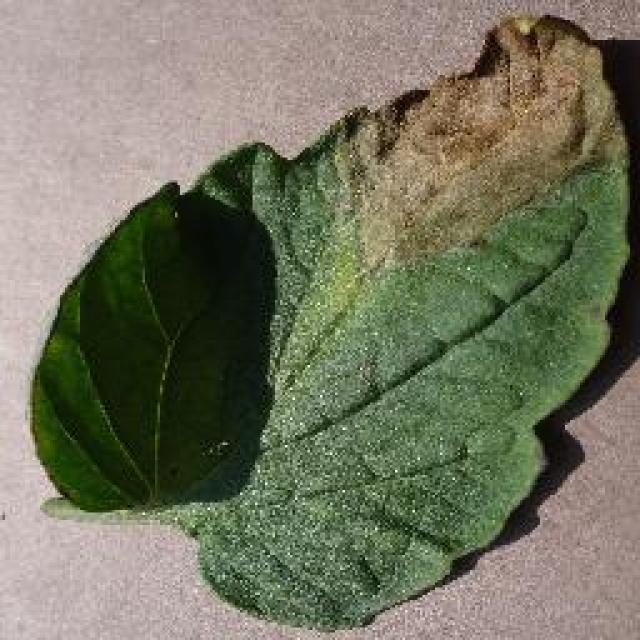Tomato late blight leaf: (24, 15, 634, 625)
